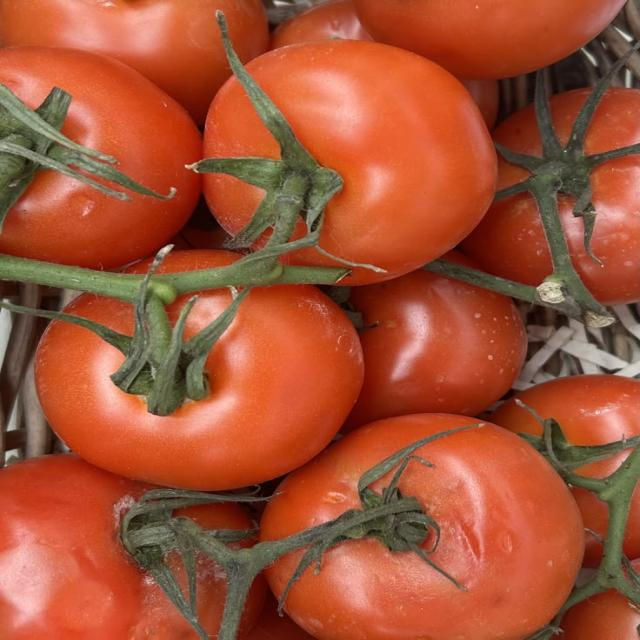tomato: (36, 285, 363, 489), (285, 424, 583, 639), (247, 40, 495, 284), (0, 46, 201, 269), (0, 454, 198, 639), (0, 0, 268, 124), (347, 270, 526, 427), (354, 0, 625, 78), (558, 155, 639, 305), (491, 374, 639, 444), (269, 0, 372, 48), (560, 590, 639, 639), (240, 592, 313, 639), (462, 79, 499, 129)
